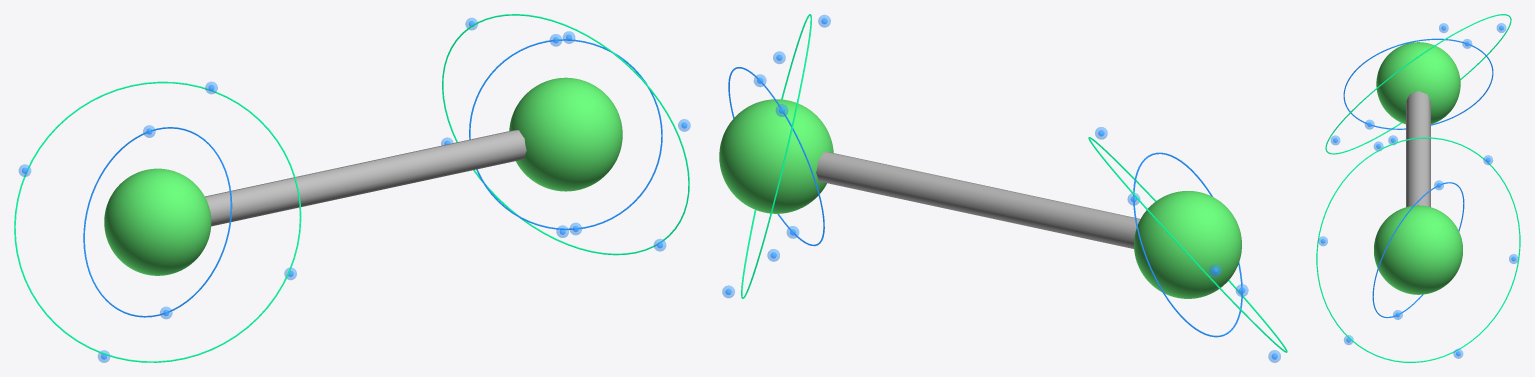
3 views of the same model, side by side, from view 1: azimuth 30°, elevation 25°; view 2: azimuth 150°, elevation 25°; view 3: azimuth 270°, elevation 25° (orthographic). The views are drawn at different scales.
Visible parts, largest first — view 1: object 35, O, C, object 7, object 22, object 17, object 2; view 2: object 35, O, C, object 22, object 7, object 2, object 17; view 3: O, C, object 35, object 22, object 7, object 2, object 17.
Boxes of the visible parts, box(x1,y1,x2,y2) form: object 35: box(205, 130, 526, 226); O: box(509, 77, 622, 191); C: box(104, 168, 211, 275); object 7: box(14, 81, 301, 362); object 22: box(442, 14, 689, 255); object 17: box(469, 39, 662, 230); object 2: box(83, 127, 232, 317); object 35: box(816, 152, 1140, 248); O: box(719, 99, 833, 213); C: box(1134, 191, 1241, 298); object 22: box(741, 14, 811, 298); object 7: box(1088, 137, 1287, 352); object 2: box(1133, 152, 1242, 337); object 17: box(728, 67, 824, 246); O: box(1374, 205, 1462, 294); C: box(1376, 42, 1460, 124); object 35: box(1406, 91, 1430, 206); object 22: box(1316, 137, 1520, 362); object 7: box(1325, 14, 1511, 154); object 2: box(1343, 38, 1493, 129); object 17: box(1372, 182, 1464, 318).
Bounding box in the file's own units: 8.44 × 3.52 × 3.24.
